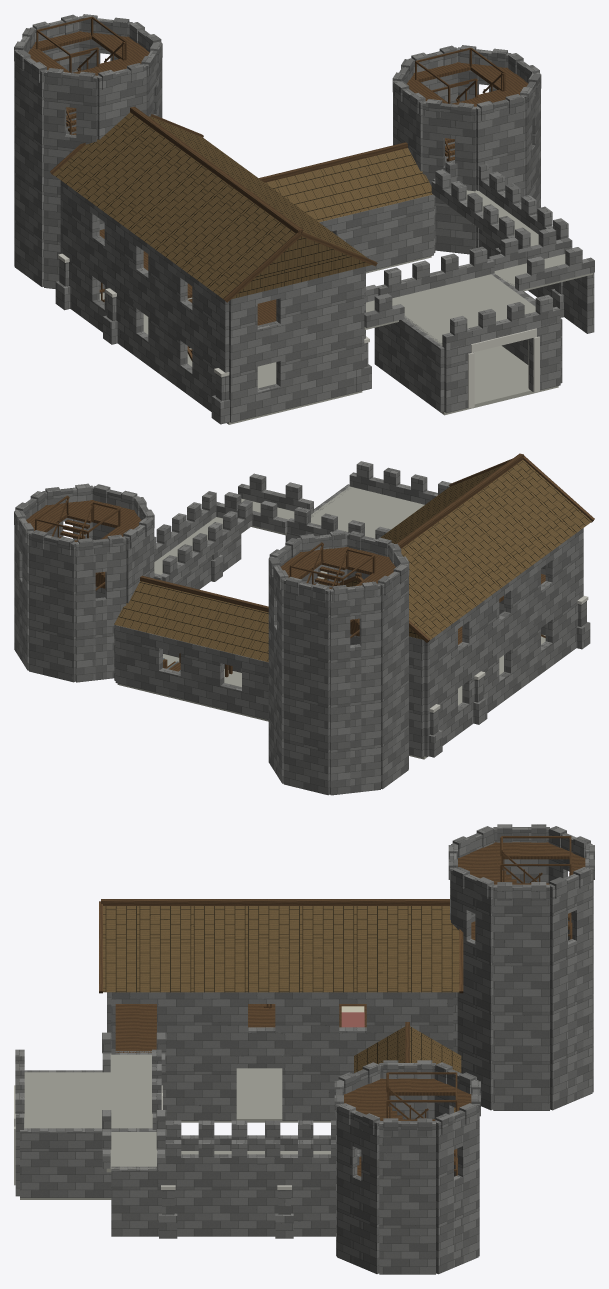
Rendered from keep.glb.
3 views of the same model, one above another, from view 1: azimuth 30°, elevation 25°; view 2: azimuth 150°, elevation 25°; view 3: azimuth 270°, elevation 25° (orthographic). The views are drawn at different scales.
Visible parts, largest first — view 1: Keep_Shell_2_111, Keep_Roof_3_2, Keep_GroundFront_2_36, Keep_Upper_Wallwalk_1_36, Keep_Roof_3_48, Keep_Upper_Floor_2_4.001, Keep_Roof_3_6, Keep_Floor_1_5, Keep_Upper_Tower_Highwatch_Level3_Floor_1_16, Keep_Upper_Tower_Eastturret_Level2_Floor_1_16, Keep_GroundFront_2_6, Keep_Upper_Floor_2_4 (+2 smaller); view 2: Keep_Shell_2_111, Keep_Roof_3_2, Keep_Upper_Wallwalk_1_36, Keep_Roof_3_48, Keep_Upper_Floor_2_4.001, Keep_Roof_3_6, Keep_Upper_Tower_Highwatch_Level3_Floor_1_16, Keep_Upper_Tower_Eastturret_Level2_Floor_1_16, Keep_Floor_1_5, Keep_Tower_Eastturret_Level2_Stair_1_34, Keep_Tower_Highwatch_Level3_Stair_1_34; view 3: Keep_Shell_2_111, Keep_Roof_3_2, Keep_Upper_Shell_1_17, Keep_Roof_3_48, Keep_Upper_Wallwalk_1_36, Keep_GroundFront_2_36, Keep_Upper_Floor_2_4.001, Keep_Roof_3_6, Keep_Upper_Tower_Eastturret_Level2_Floor_1_16, Keep_Upper_Tower_Highwatch_Level3_Floor_1_16, Keep_Floor_1_5, Keep_Upper_Floor_2_4.
Part boxes in pixels (box(x1,y1,x2,y2)): Keep_Shell_2_111: box(14, 31, 594, 424); Keep_Roof_3_2: box(53, 112, 432, 299); Keep_GroundFront_2_36: box(229, 194, 560, 422); Keep_Upper_Wallwalk_1_36: box(364, 160, 594, 349); Keep_Roof_3_48: box(14, 14, 541, 121); Keep_Upper_Floor_2_4.001: box(364, 190, 592, 345); Keep_Roof_3_6: box(50, 106, 407, 302); Keep_Floor_1_5: box(99, 256, 558, 424); Keep_Upper_Tower_Highwatch_Level3_Floor_1_16: box(28, 16, 149, 75); Keep_Upper_Tower_Eastturret_Level2_Floor_1_16: box(407, 47, 528, 106); Keep_GroundFront_2_6: box(468, 328, 539, 408); Keep_Upper_Floor_2_4: box(99, 229, 276, 325); Keep_Shell_2_111: box(14, 484, 590, 795); Keep_Roof_3_2: box(114, 460, 591, 662); Keep_Upper_Wallwalk_1_36: box(154, 461, 451, 583); Keep_Roof_3_48: box(14, 483, 409, 602); Keep_Upper_Floor_2_4.001: box(154, 486, 424, 582); Keep_Roof_3_6: box(140, 453, 594, 642); Keep_Upper_Tower_Highwatch_Level3_Floor_1_16: box(281, 542, 395, 586); Keep_Upper_Tower_Eastturret_Level2_Floor_1_16: box(26, 495, 141, 539); Keep_Floor_1_5: box(75, 571, 545, 759); Keep_Tower_Eastturret_Level2_Stair_1_34: box(52, 496, 105, 585); Keep_Tower_Highwatch_Level3_Stair_1_34: box(306, 543, 359, 633); Keep_Shell_2_111: box(20, 842, 593, 1274); Keep_Roof_3_2: box(103, 906, 461, 1112); Keep_Upper_Shell_1_17: box(111, 992, 453, 1054); Keep_Roof_3_48: box(334, 824, 594, 1136); Keep_Upper_Wallwalk_1_36: box(15, 1032, 359, 1170); Keep_GroundFront_2_36: box(15, 992, 355, 1196); Keep_Upper_Floor_2_4.001: box(24, 1053, 330, 1172); Keep_Roof_3_6: box(99, 899, 463, 1062); Keep_Upper_Tower_Eastturret_Level2_Floor_1_16: box(344, 1072, 471, 1120); Keep_Upper_Tower_Highwatch_Level3_Floor_1_16: box(458, 836, 585, 884); Keep_Floor_1_5: box(20, 1068, 550, 1273); Keep_Upper_Floor_2_4: box(115, 1004, 366, 1052).
Bounding box in the file's own units: 23.71 × 11.32 × 25.48.
9 materials, 3 textured.
